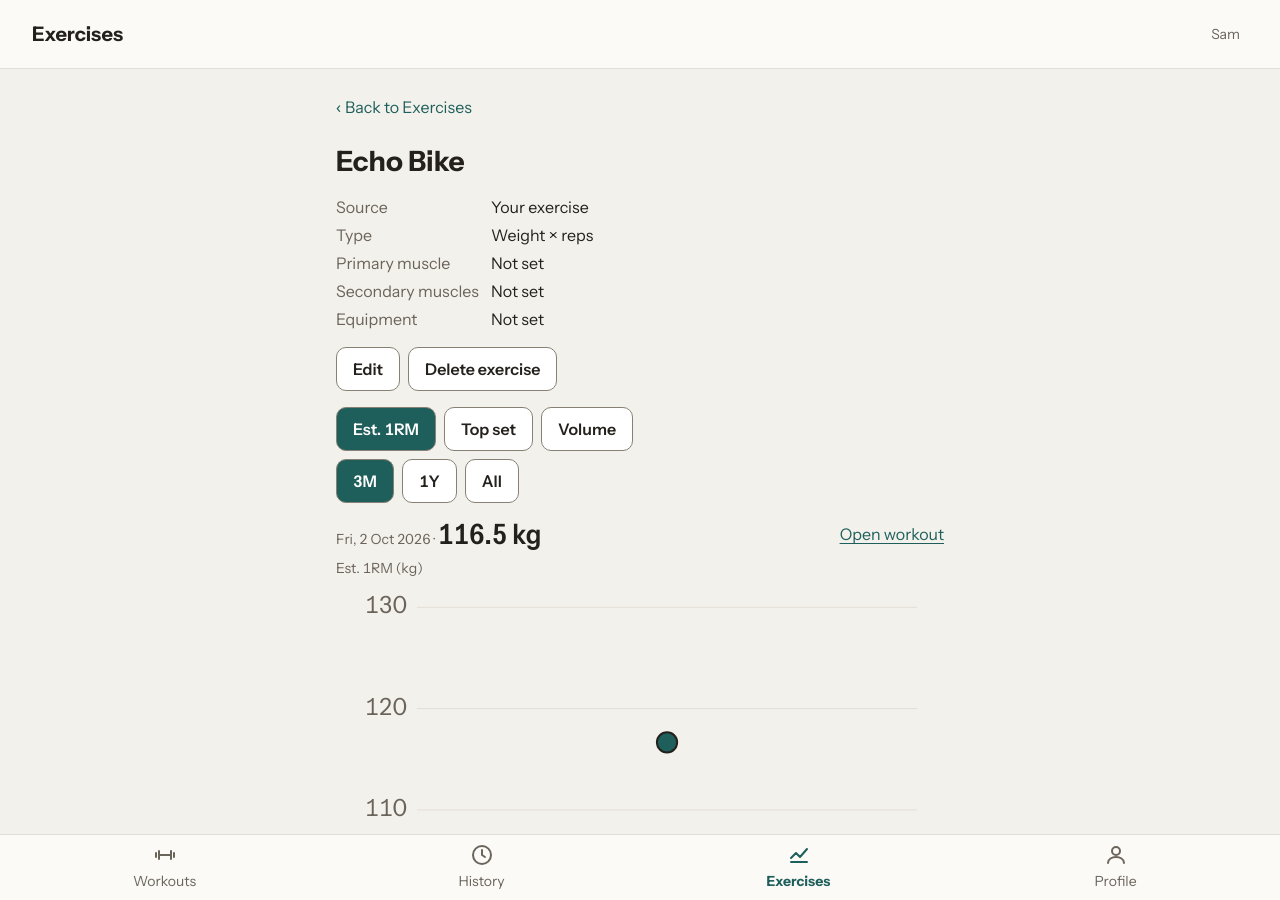
18.2 AC38 — usage on open › the checking note shows while the first usage read is still out
Click the button "Edit": x=368, y=369 [336, 347, 400, 391]
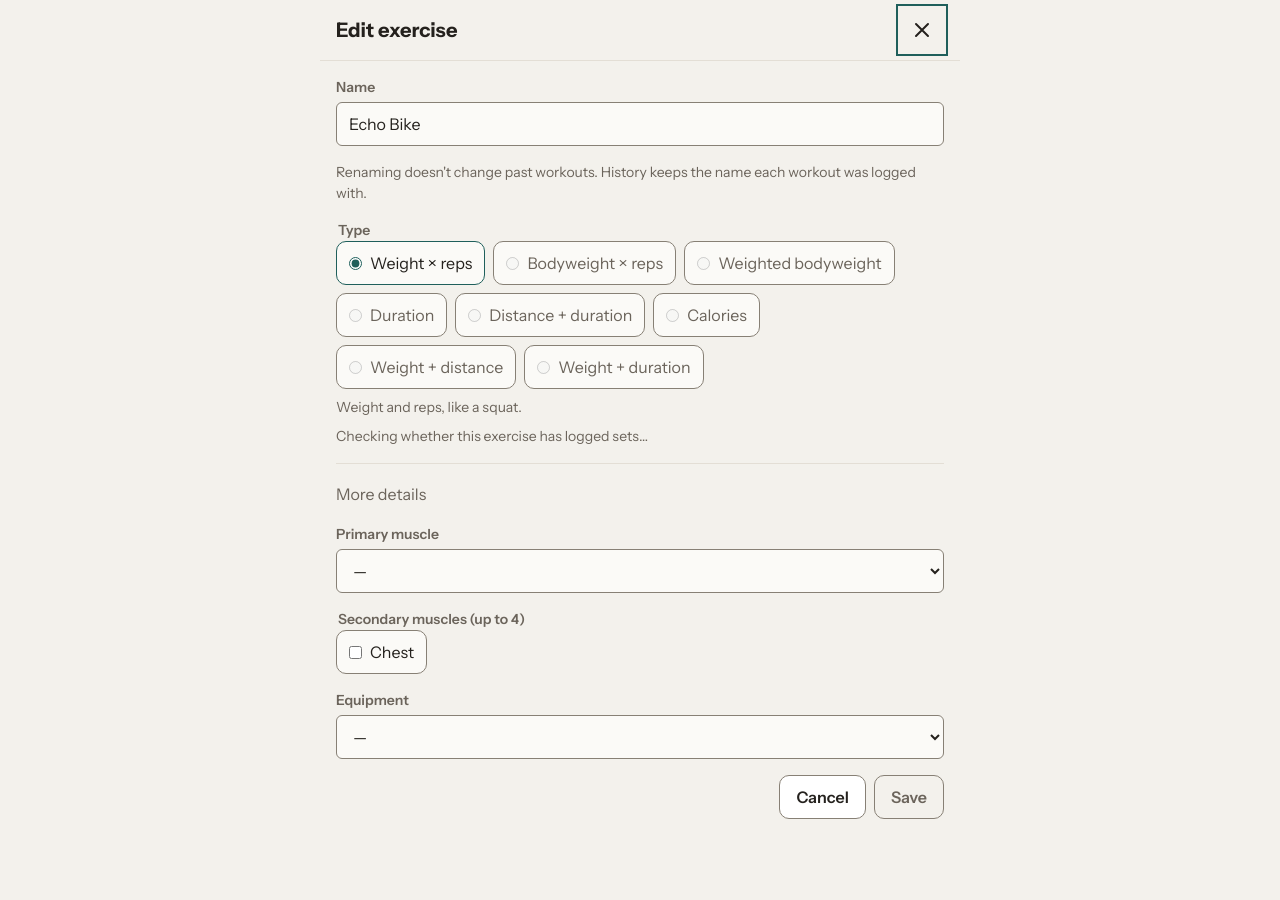
Check: the text "Checking whether this exercise has logged sets…" is shown, box [336, 427, 648, 445]
